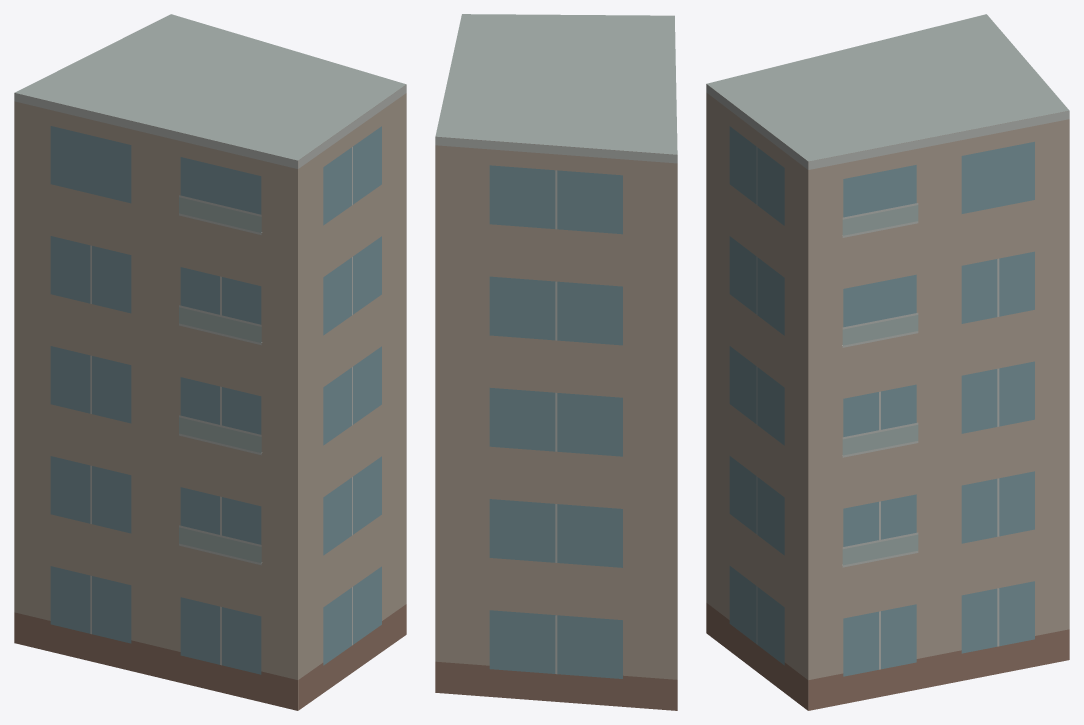
Rendered from survey-upis-32978249.glb.
3 views of the same model, side by side, from view 1: azimuth 30°, elevation 25°; view 2: azimuth 150°, elevation 25°; view 3: azimuth 270°, elevation 25° (orthographic).
Visible parts, largest first — view 1: survey-upis-32978249.tmp; view 2: survey-upis-32978249.tmp; view 3: survey-upis-32978249.tmp.
Boxes of the visible parts, x1,y1,x2,y2 form: survey-upis-32978249.tmp: (14,14,406,710); survey-upis-32978249.tmp: (435,14,677,710); survey-upis-32978249.tmp: (706,14,1069,710).
Bounding box in the file's own units: 9.02 × 15.65 × 9.39.
